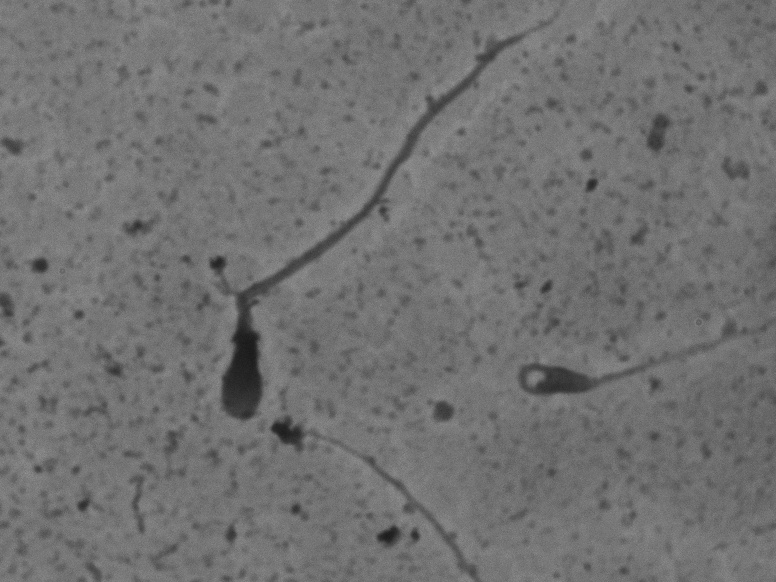Abnormal: (208, 7, 582, 432), (475, 269, 755, 436)
